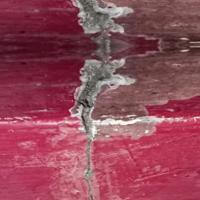crack: (62, 0, 135, 199)
